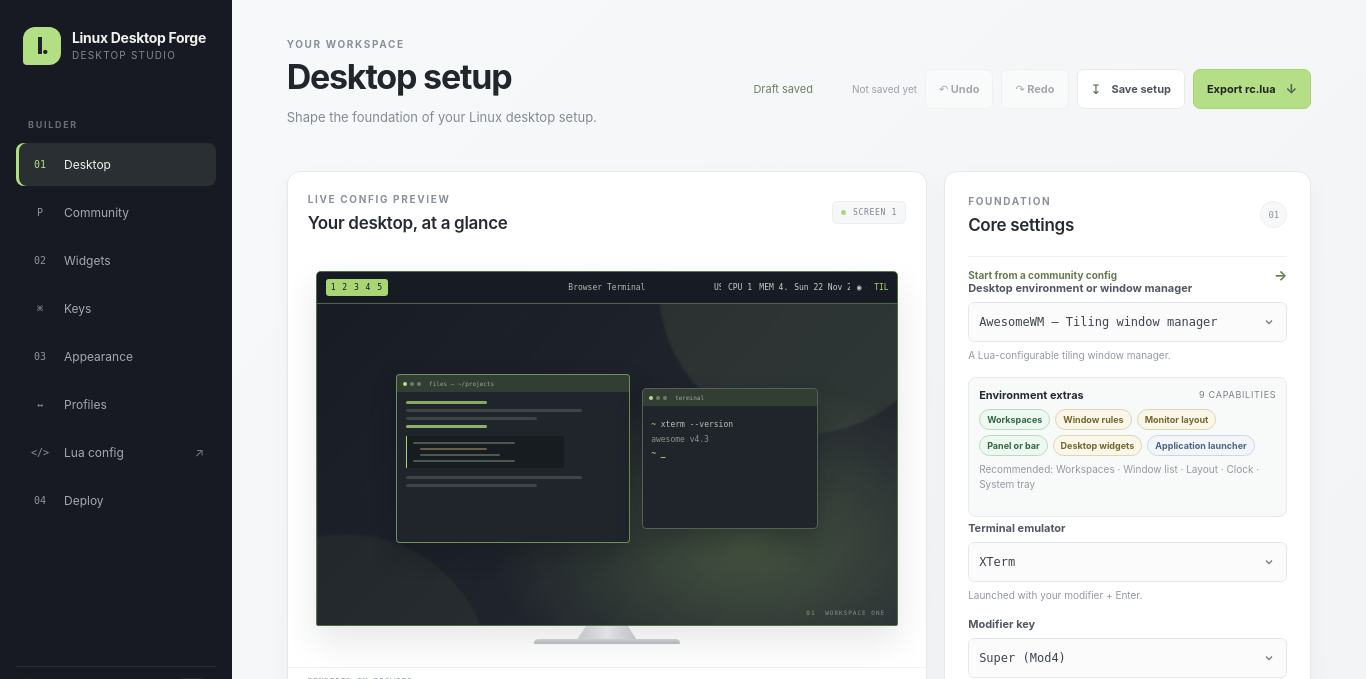
Test: configuration studio interactions › applies and saves reusable widget presets
Click the button "02 Widgets" at (116, 260), box top-left (16, 239), bottom-right (216, 282)
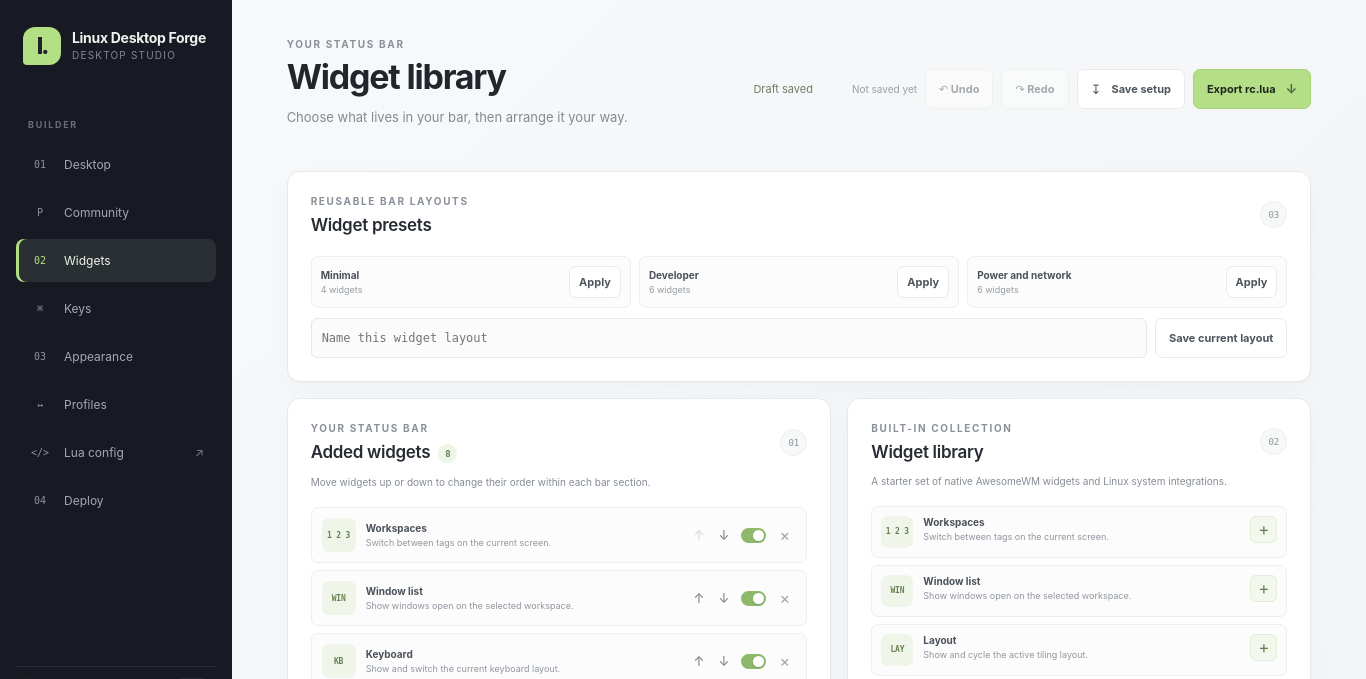
Click the button with aria-label "Apply Minimal widget preset" at (595, 282), box top-left (569, 266), bottom-right (621, 298)
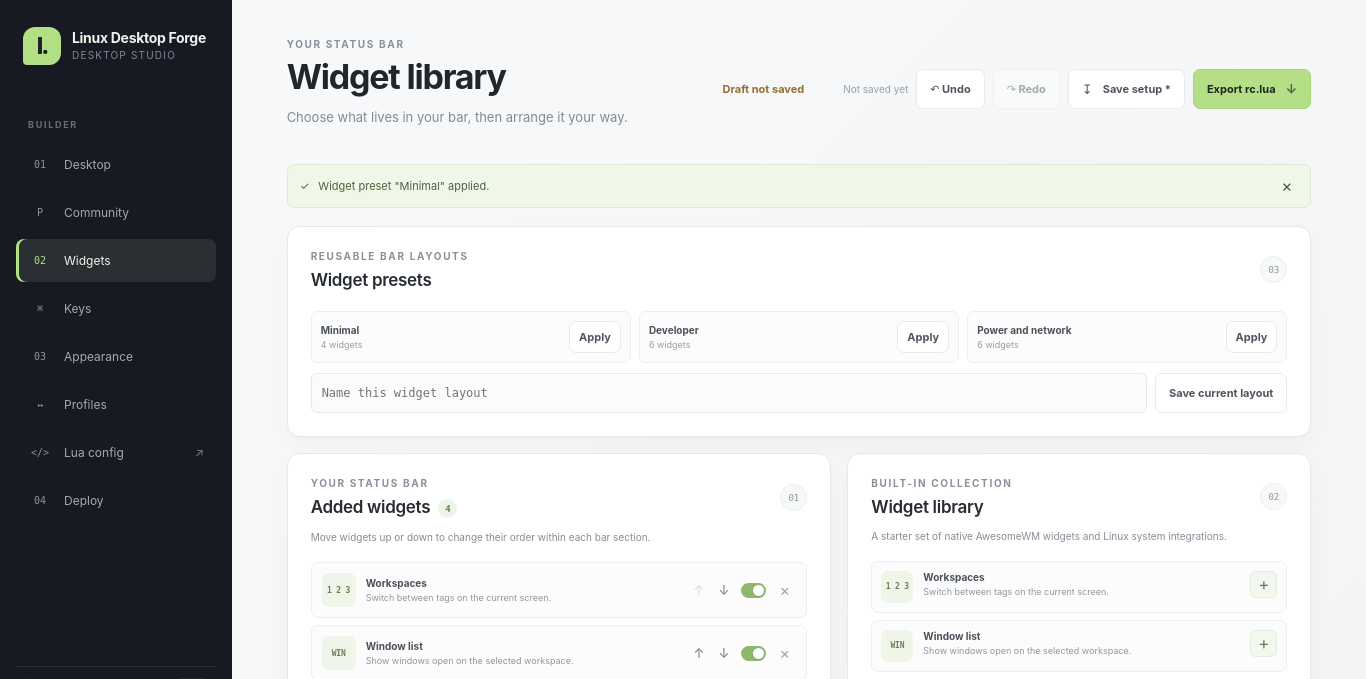
Result: the text "4" is shown at top-left (438, 499), bottom-right (457, 518)
Type "My bar" into the field named "Widget preset name" at (729, 393), box top-left (311, 373), bottom-right (1147, 413)
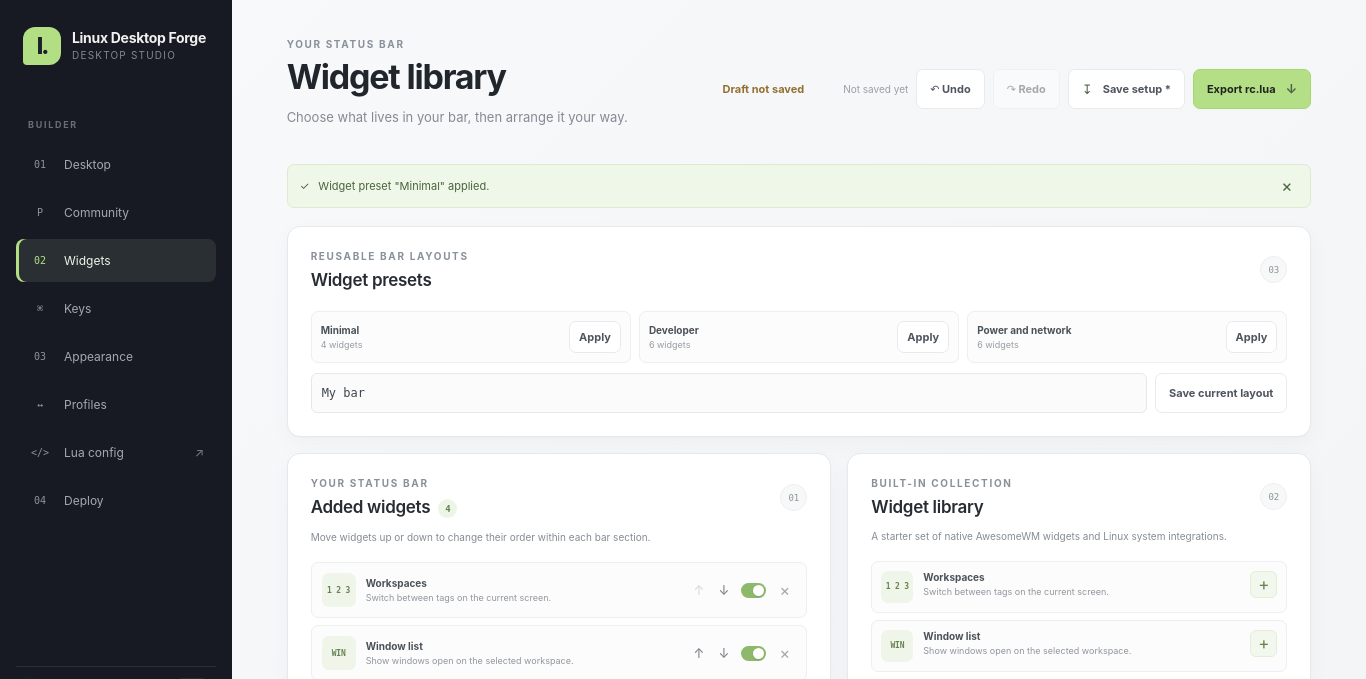
Click the button "Save current layout" at (1221, 393), box top-left (1155, 373), bottom-right (1287, 413)
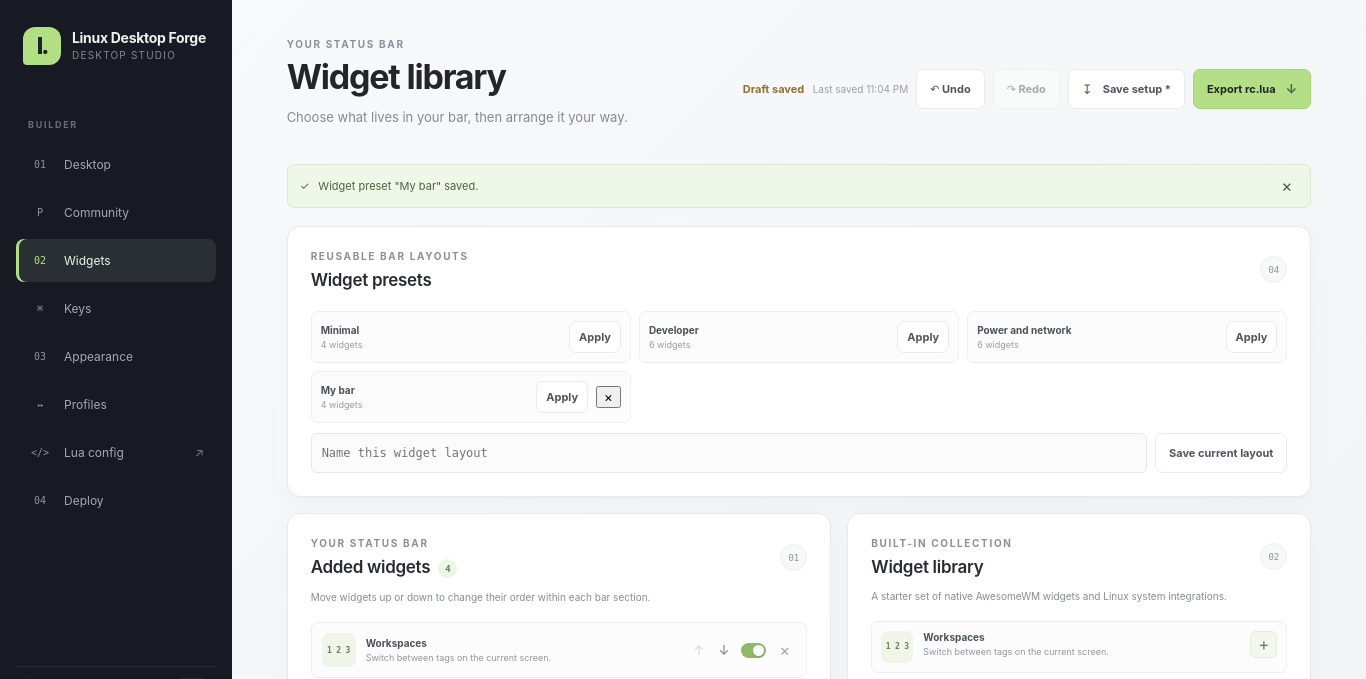
Result: the text "My bar" is shown at top-left (321, 384), bottom-right (355, 396)
